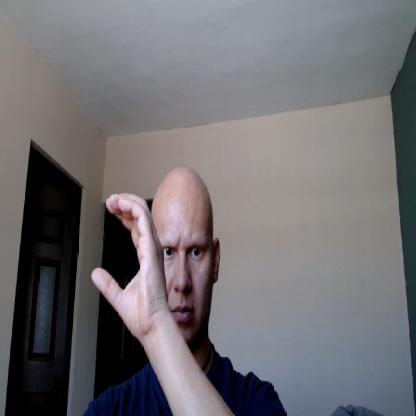C: (91, 191, 167, 334)
